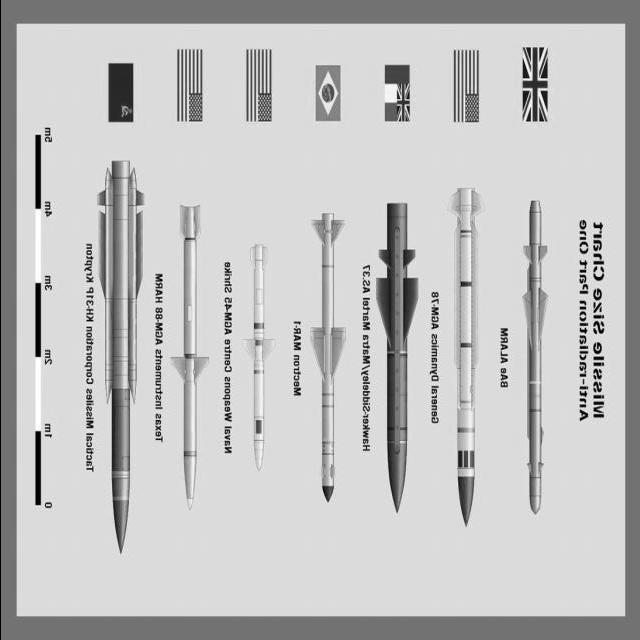missile: (91, 134, 151, 554), (447, 172, 488, 534)
